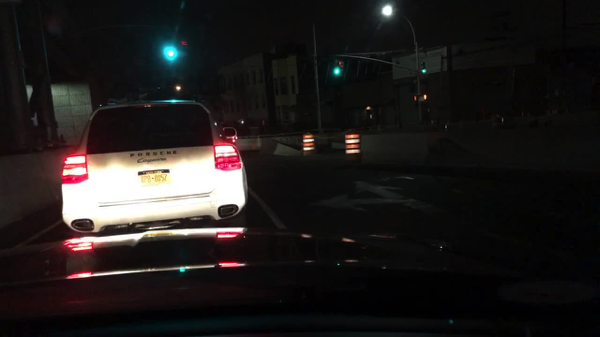car: (60, 98, 249, 239)
traffic light: (165, 40, 175, 64), (175, 42, 182, 64), (332, 60, 339, 77), (419, 62, 426, 75), (339, 60, 343, 78), (412, 95, 418, 103), (422, 94, 427, 101)
